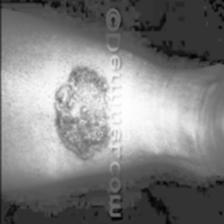Toxin: (48, 60, 106, 164)
